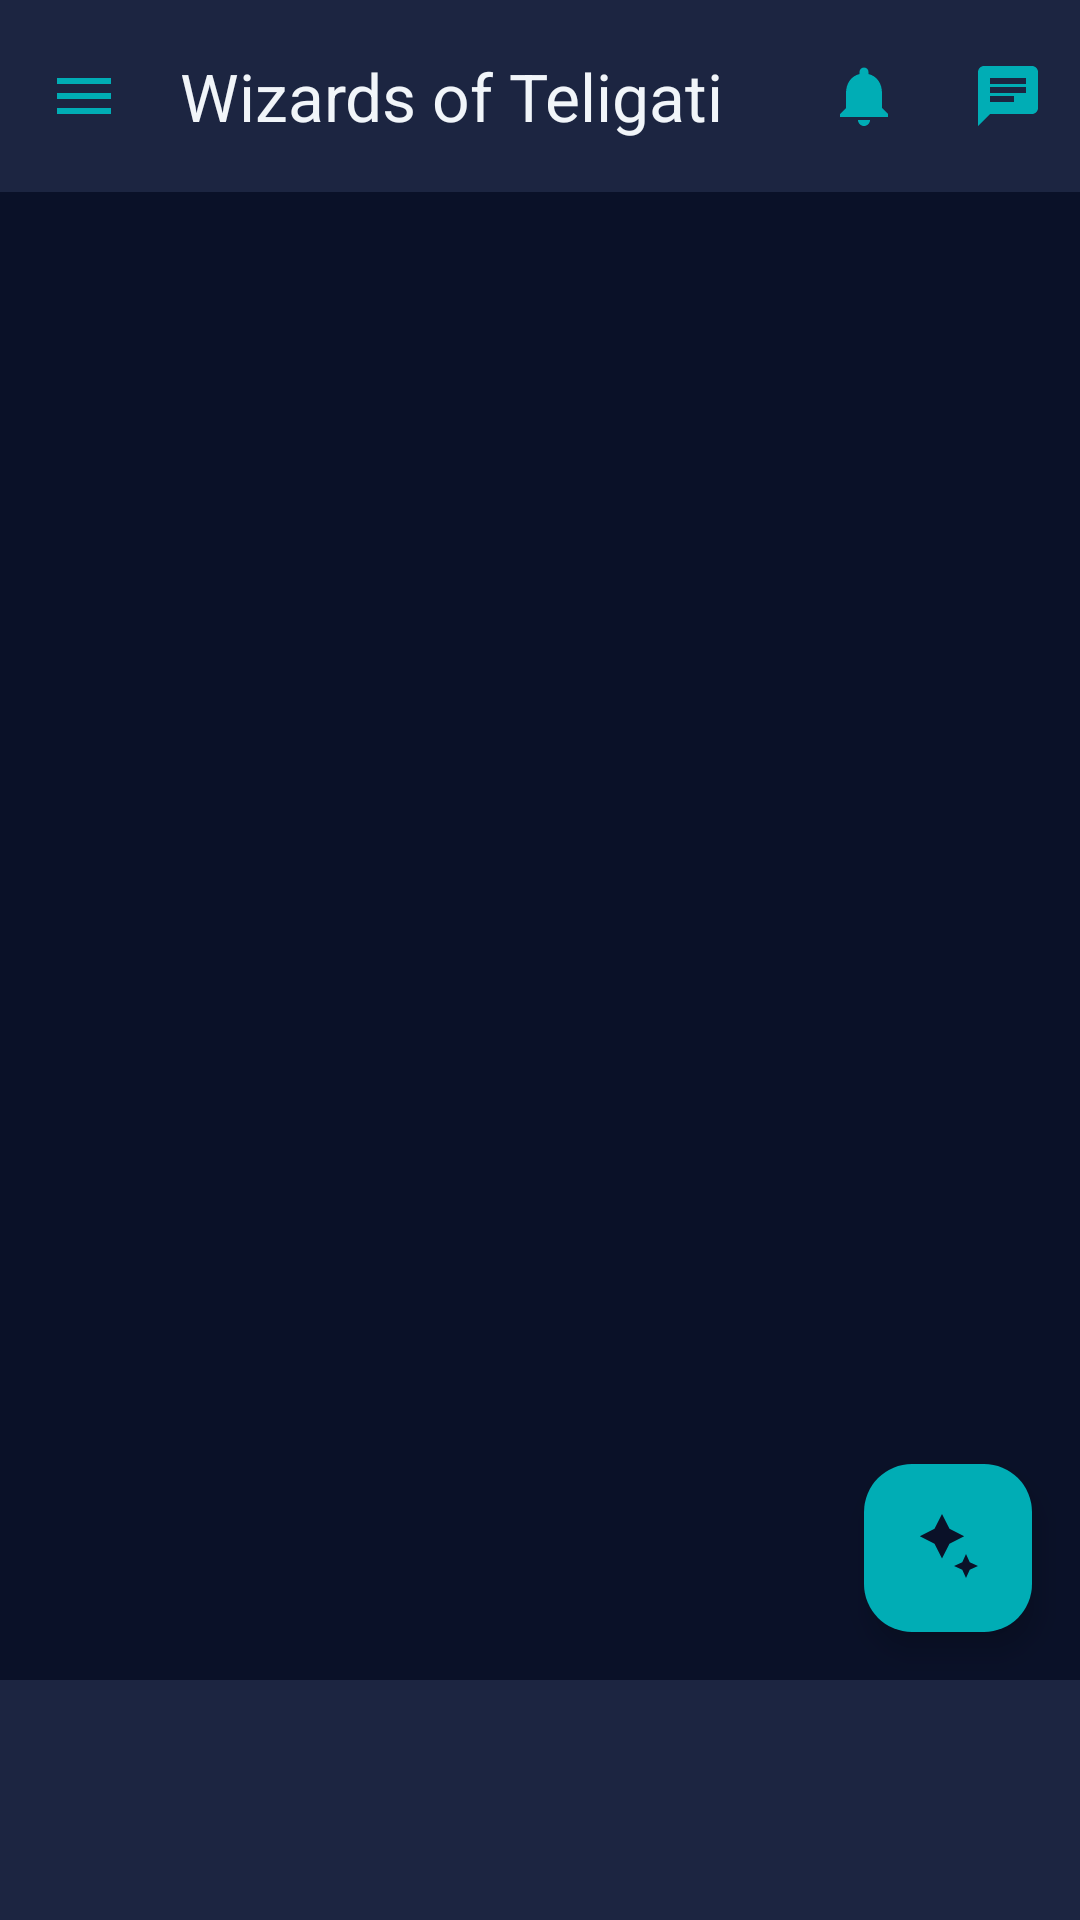

Point at icon controls on the screen. Image size 1080 × 1920, points as [x,y].
Teligati AI Assistant: [948,1548]
